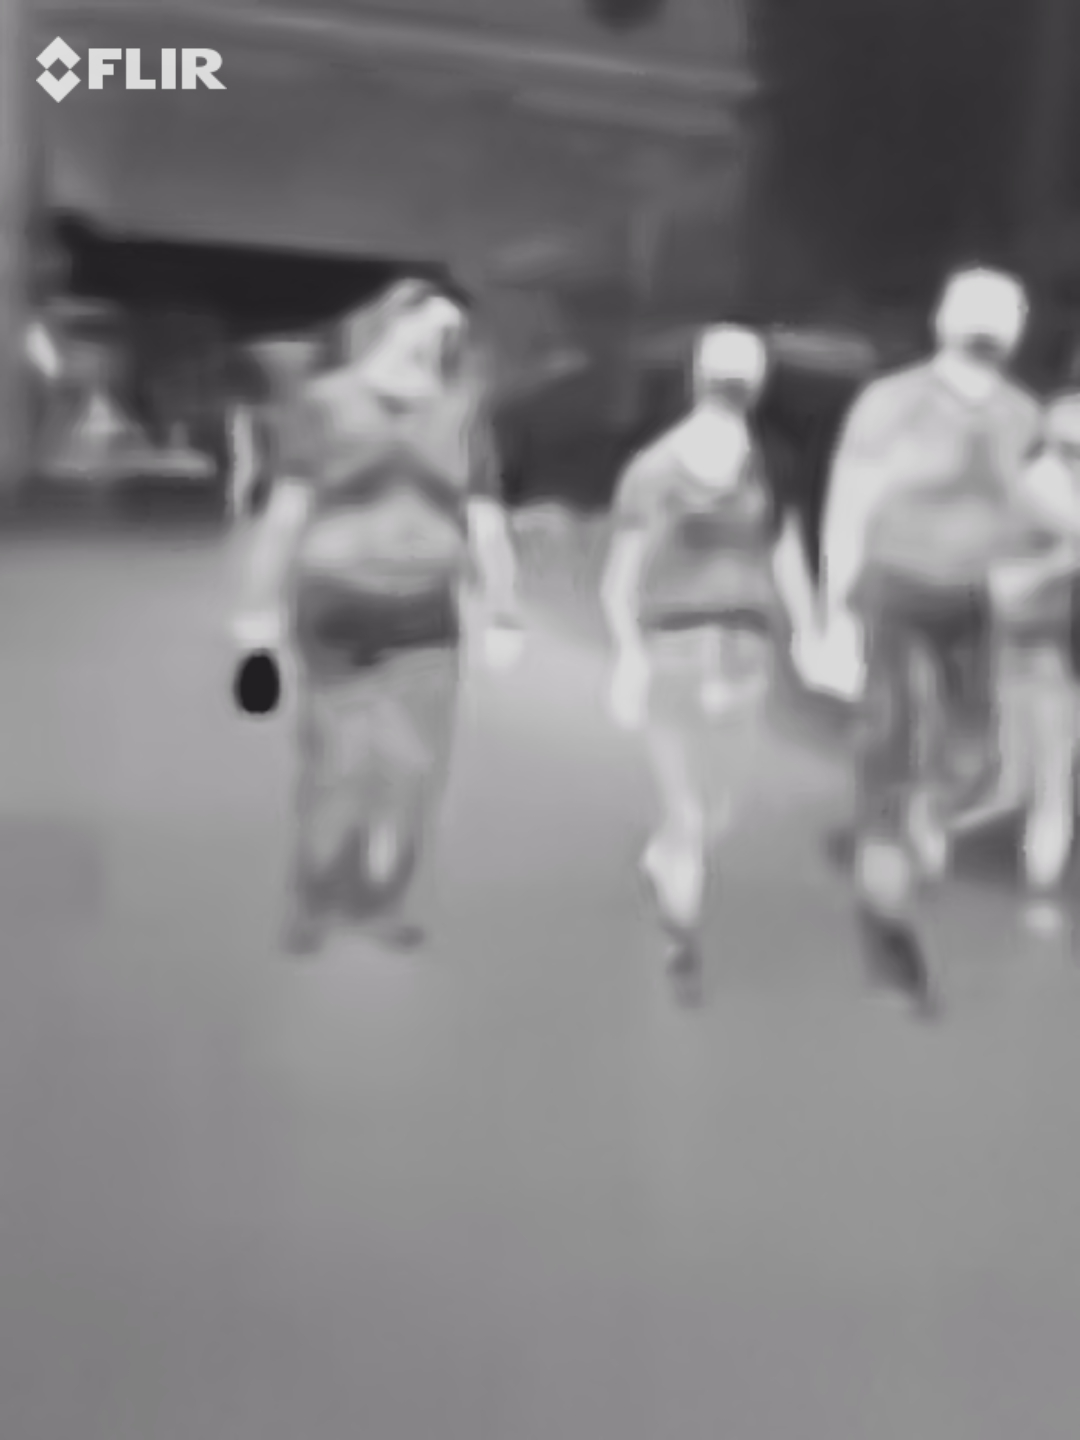head: (363, 275, 468, 403), (683, 315, 773, 416)
